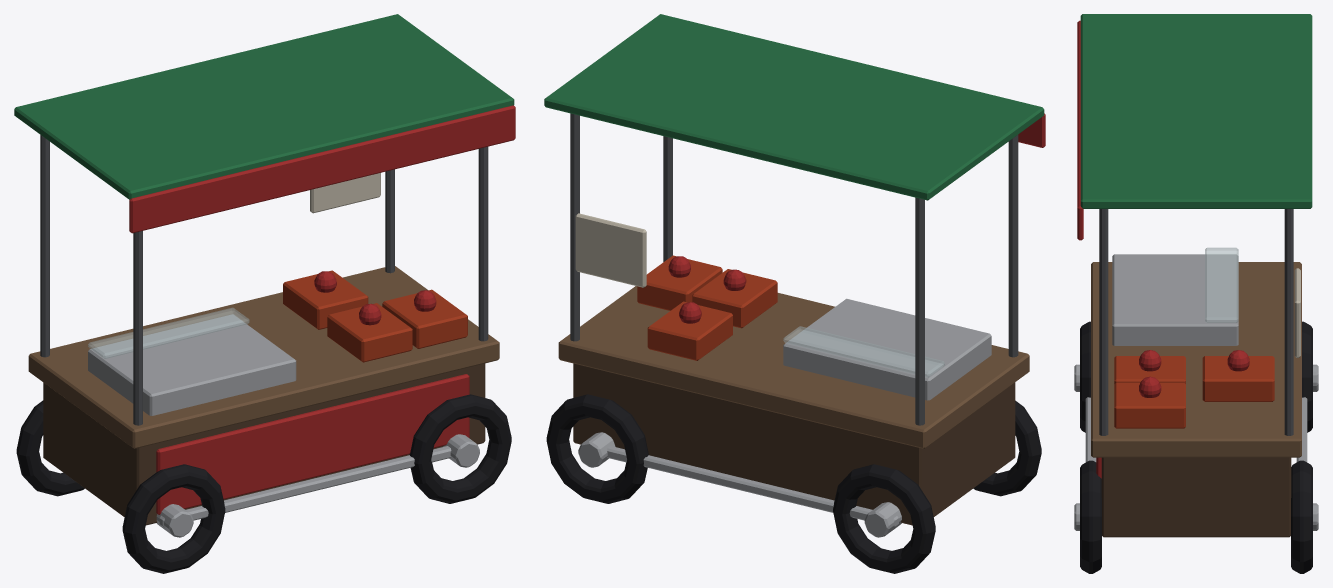
The model's file is PRP_VendorCart_ML_v001.glb.
3 renders of one model, left to right at view 1: azimuth 30°, elevation 25°; view 2: azimuth 150°, elevation 25°; view 3: azimuth 270°, elevation 25°, orthographic.
Visible parts, largest first — view 1: PRP_VendorCart_ML_v001; view 2: PRP_VendorCart_ML_v001; view 3: PRP_VendorCart_ML_v001.
Boxes of the visible parts, x1,y1,x2,y2 form: PRP_VendorCart_ML_v001: [14, 14, 515, 573]; PRP_VendorCart_ML_v001: [544, 14, 1045, 573]; PRP_VendorCart_ML_v001: [1074, 14, 1318, 573].
Size of the model in its own units: 2.11 by 2.05 by 1.16.
